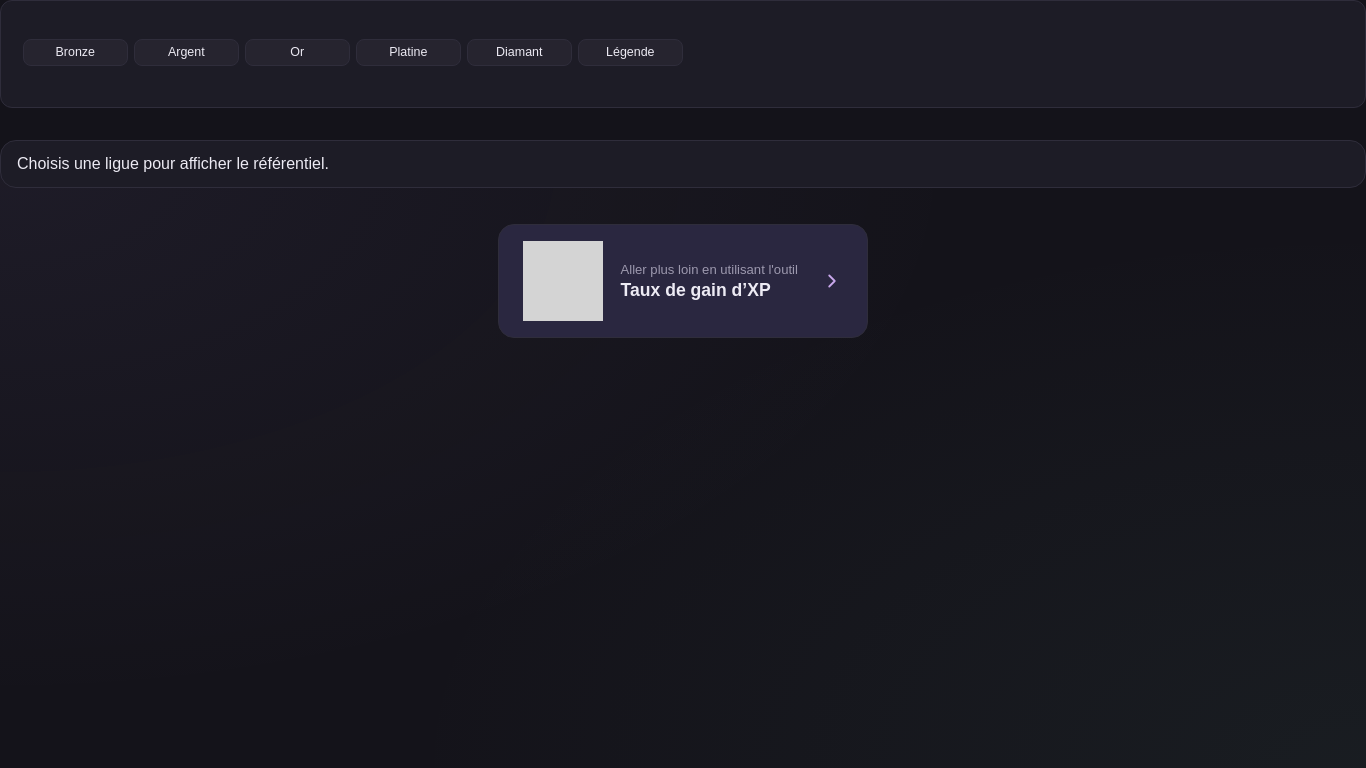
Bloc 63/A: Progression paginates one table at a time on a narrow screen › shows a single 30-level table, and twice as many pages as desktop
Click the button "Légende" at (630, 52), box [578, 39, 683, 66]
(page scrolled)
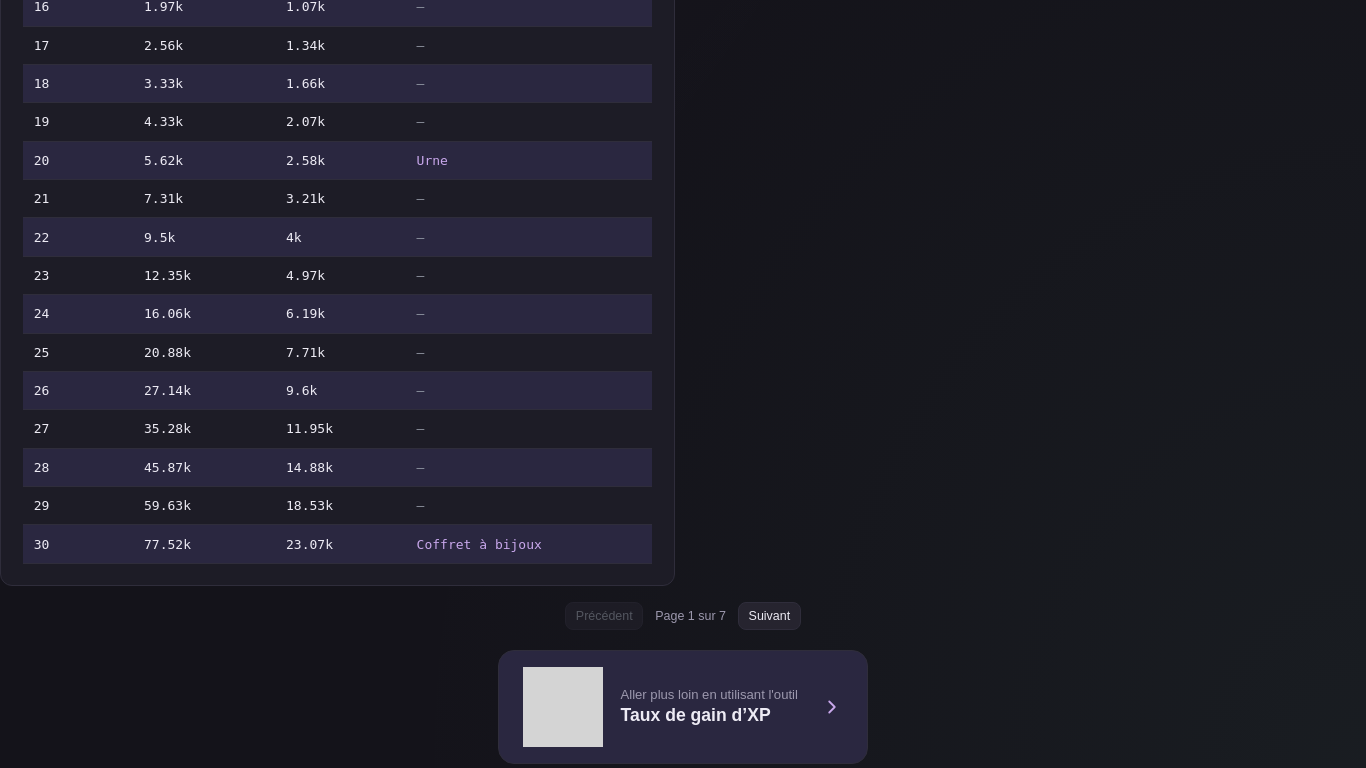
Expected: the text "Page 1 sur 7" is shown, [655, 609, 726, 623]
